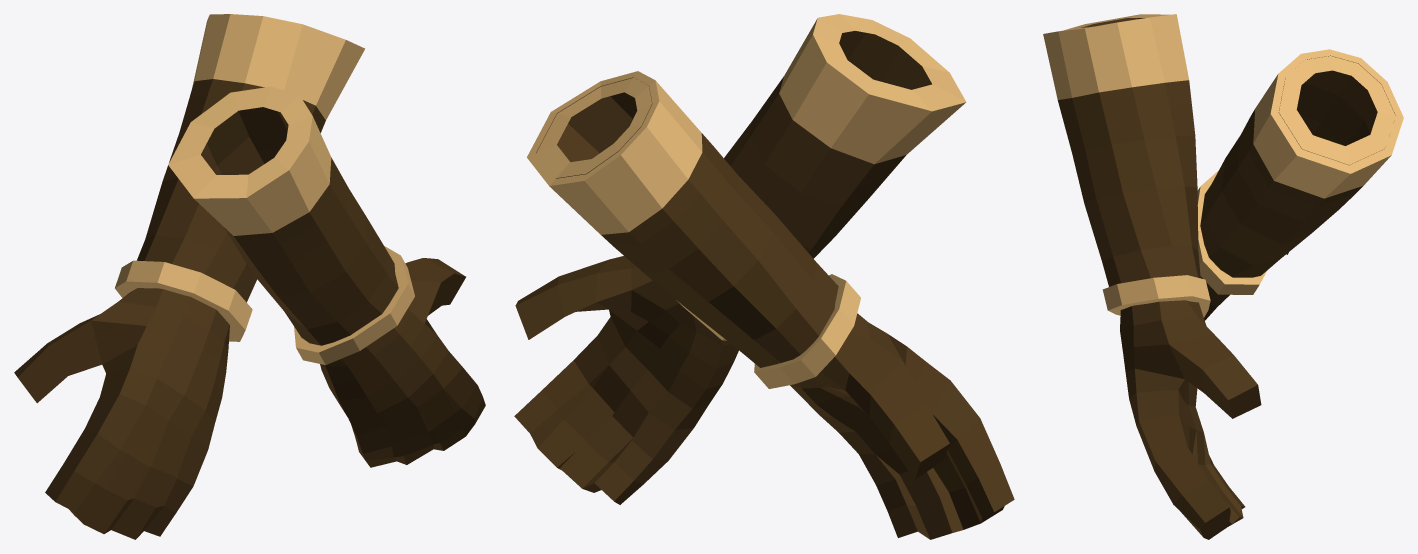
File: Icon 1.fbx
The picture shows the model from 3 angles, left to right: view 1: azimuth 30°, elevation 25°; view 2: azimuth 150°, elevation 25°; view 3: azimuth 270°, elevation 25°; orthographic projection. The views are drawn at different scales.
Visible parts, largest first — view 1: Leather Arm.001; view 2: Leather Arm.001; view 3: Leather Arm.001.
Boxes of the visible parts, box(x1,y1,x2,y2) form: Leather Arm.001: box(14, 14, 485, 539); Leather Arm.001: box(514, 14, 1014, 539); Leather Arm.001: box(1043, 14, 1403, 539).
Size of the model in its own units: 50.16 by 47.96 by 36.03.
